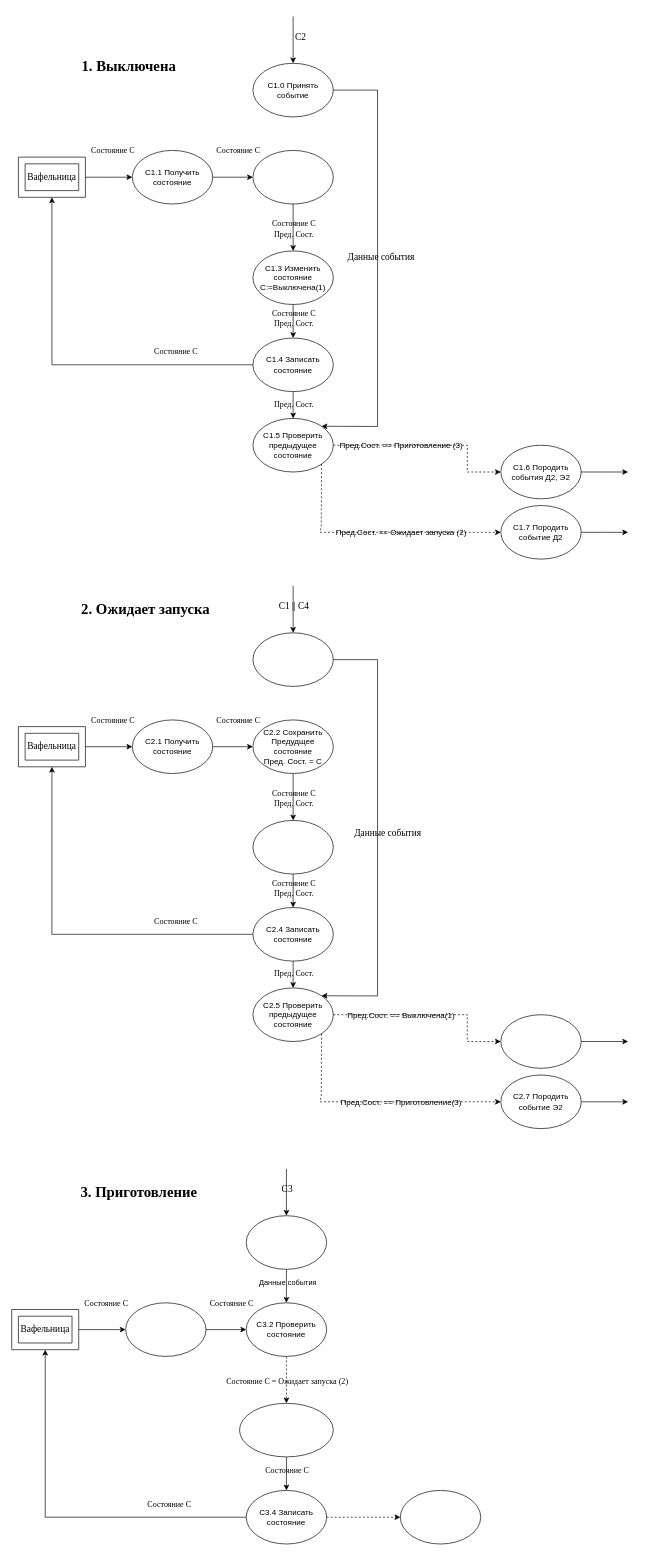
The diagram is 645 pixels wide and 1556 high, and some of its shapes have lost their labels. Here are the shapes that lost their labels. From the top down, the centre of each, then its label:
At pixel 292 177: "С1.2 Сохранить Предудщее состояние Пред. Сост. = С".
At pixel 292 659: "С2.0 Принять событие".
At pixel 292 847: "С2.3 Изменить состояние C=Ожидает запуска(2)".
At pixel 540 1041: "С2.6 Породить события Д1".
At pixel 286 1242: "С3.0 Принять событие".
At pixel 165 1329: "С3.1 Получить состояние".
At pixel 286 1430: "С3.3 Изменить состояние C =Приготовление(3)".
At pixel 440 1517: "С3.5 Породить события Э1".
